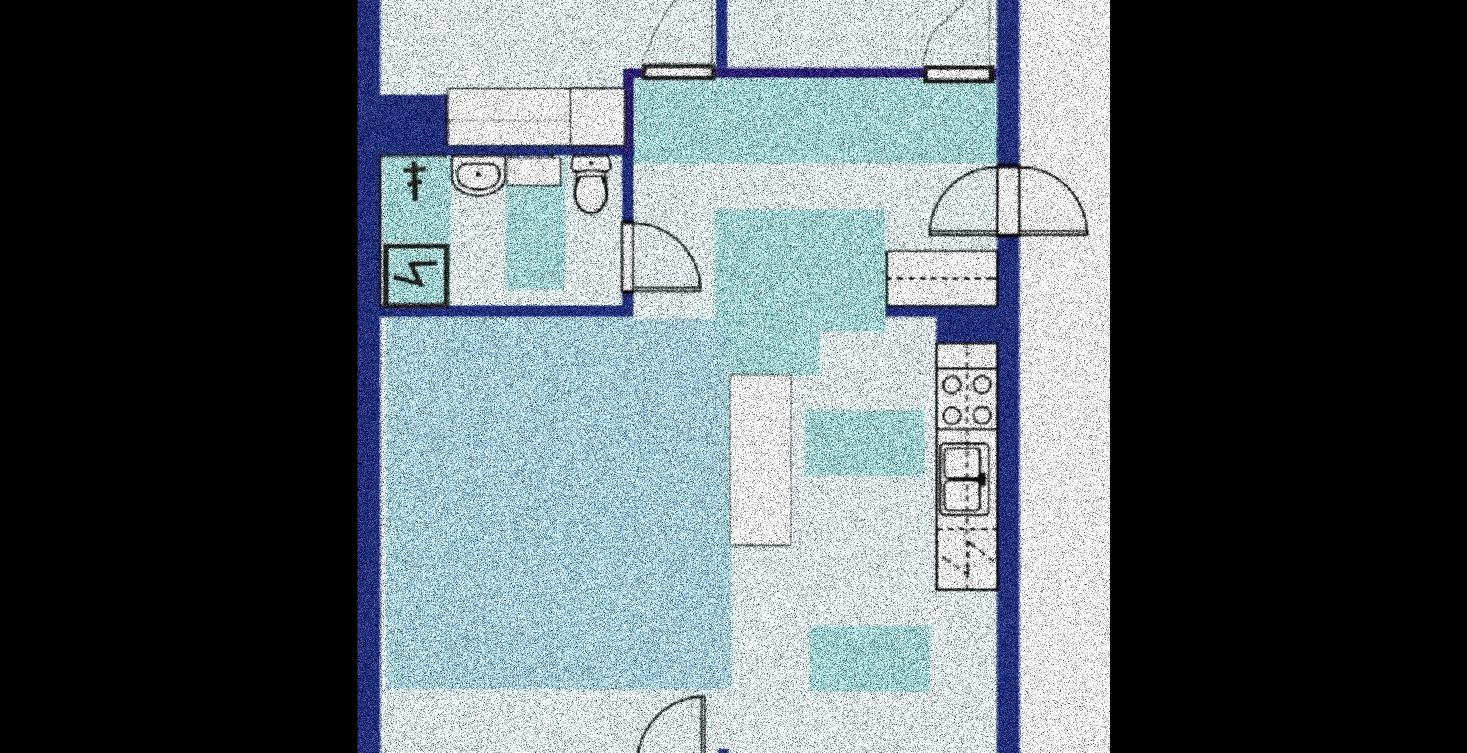door: (925, 170, 1092, 234), (922, 0, 994, 85), (620, 219, 701, 294), (642, 0, 712, 83), (635, 694, 713, 753)
zone: (380, 83, 997, 753), (377, 0, 718, 91), (725, 0, 996, 66)
